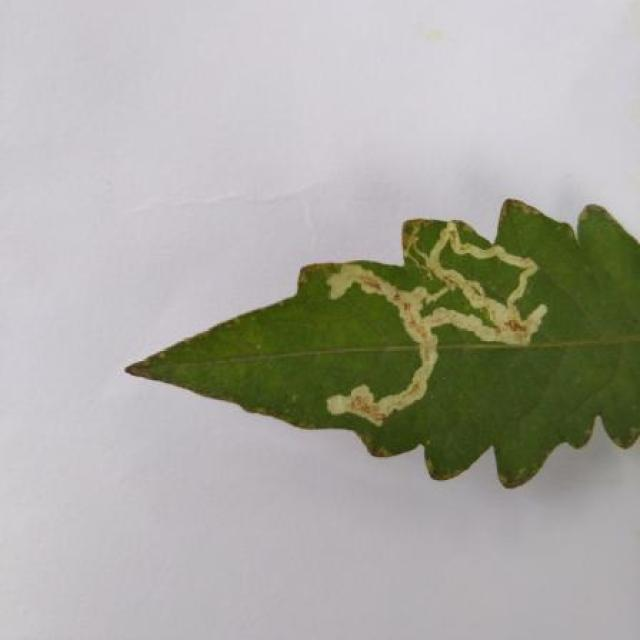Leaf Miner: (118, 193, 640, 493)
